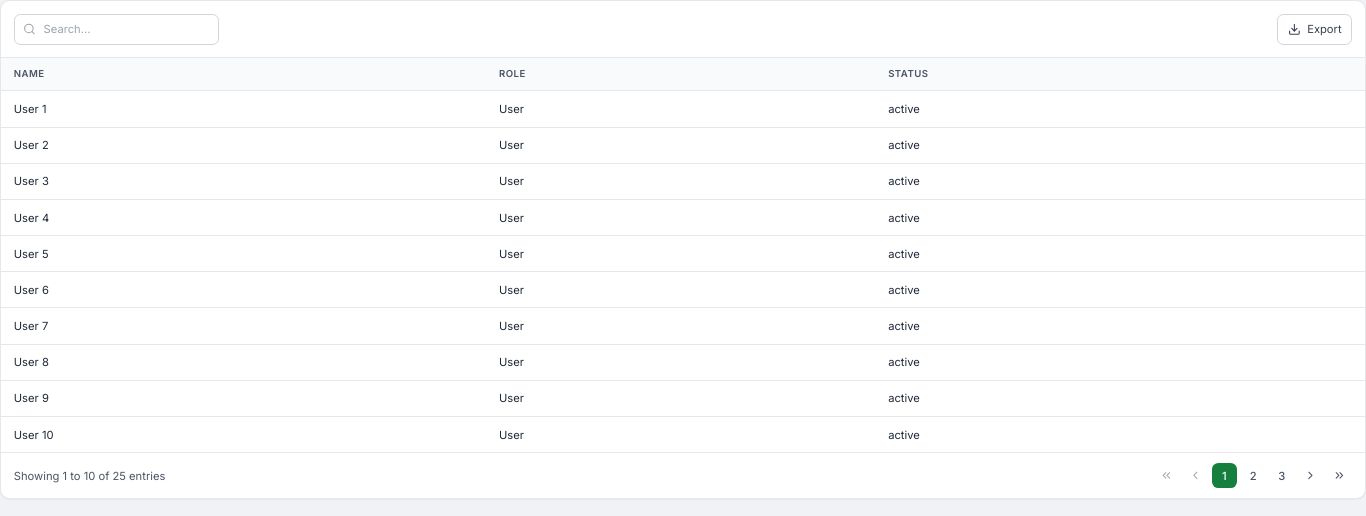
Scenario: DataTable › navigates to next page on clicking next
Click the button with class "lucide-chevron-right": point(1311, 476) 1298,463 -> 1324,488
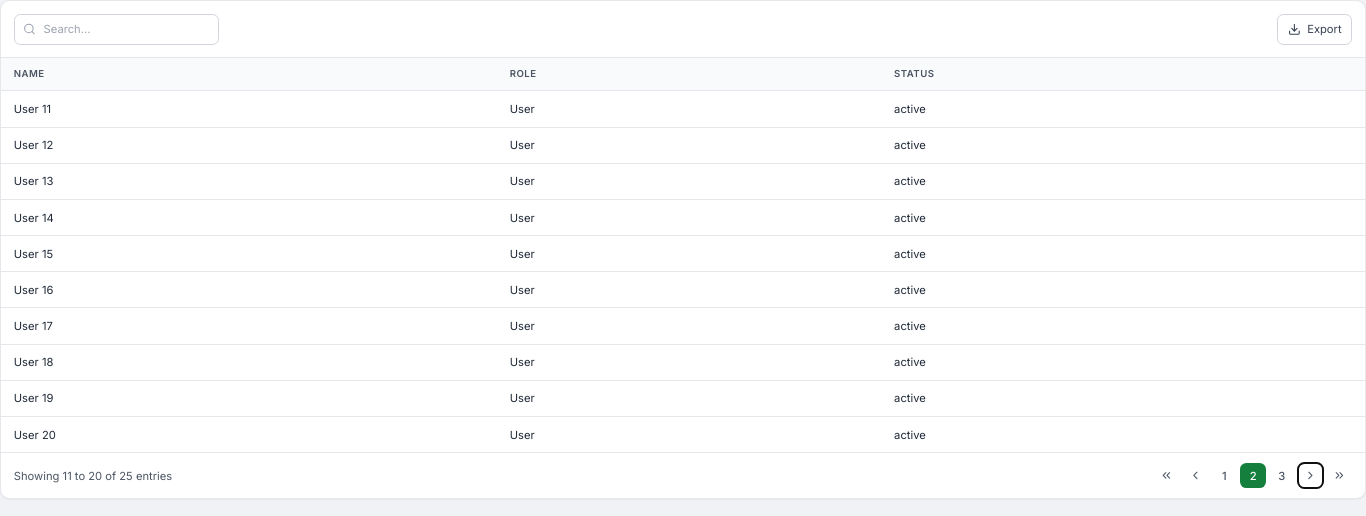
Expected: the cell "User 11" is shown, 1,91 -> 497,127
